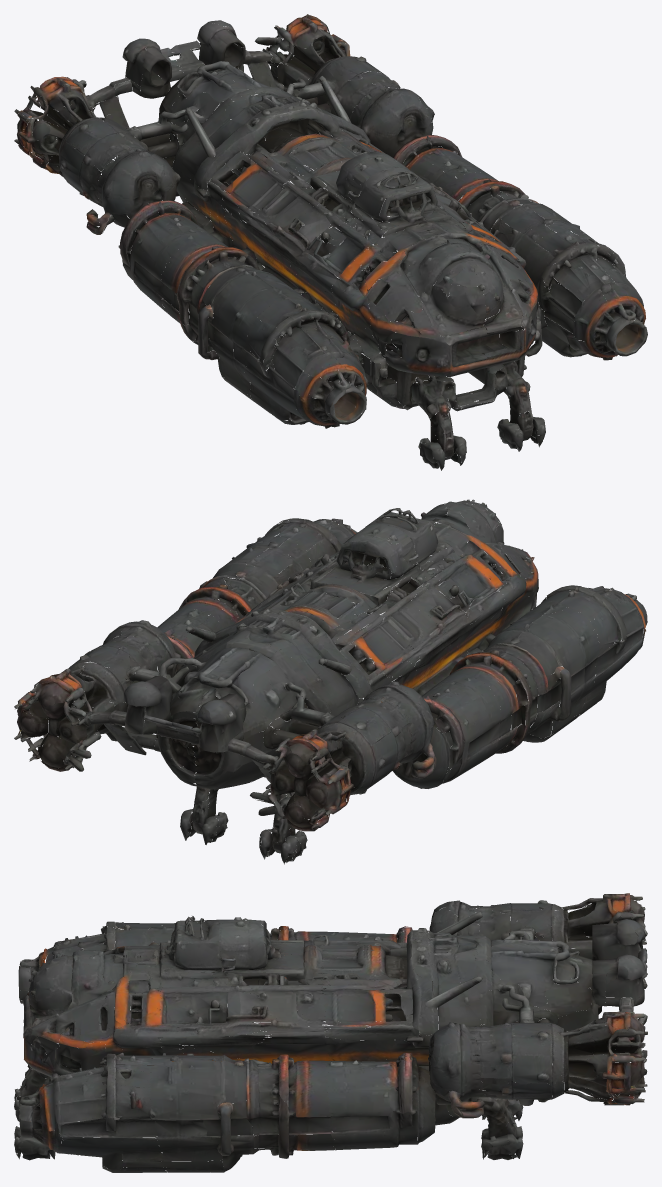
File: bomber-v3.glb
The picture shows the model from 3 angles, top to bottom: view 1: azimuth 30°, elevation 25°; view 2: azimuth 150°, elevation 25°; view 3: azimuth 270°, elevation 25°; orthographic projection. The views are drawn at different scales.
Parts seen in each view (by area): view 1: tripo_node_b8072a78-60b3-4db8-8e8f-15fd2714e001; view 2: tripo_node_b8072a78-60b3-4db8-8e8f-15fd2714e001; view 3: tripo_node_b8072a78-60b3-4db8-8e8f-15fd2714e001.
Boxes of the visible parts, x1,y1,x2,y2 form: tripo_node_b8072a78-60b3-4db8-8e8f-15fd2714e001: [14, 14, 647, 470]; tripo_node_b8072a78-60b3-4db8-8e8f-15fd2714e001: [14, 499, 647, 864]; tripo_node_b8072a78-60b3-4db8-8e8f-15fd2714e001: [14, 893, 647, 1172].
Bounding box in the file's own units: 0.6593 × 0.3791 × 1.
1 material, 1 textured.
